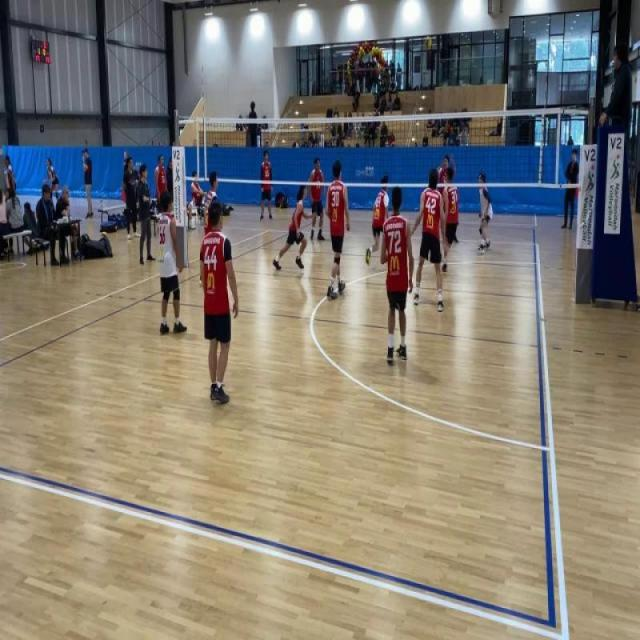volleyball: (424, 35, 432, 50), (101, 230, 108, 238)
